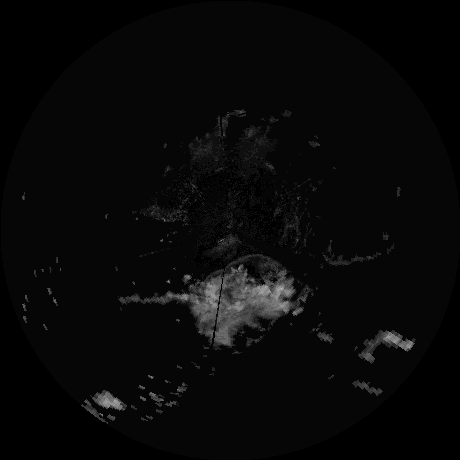frontgust: (206, 253, 283, 280)
